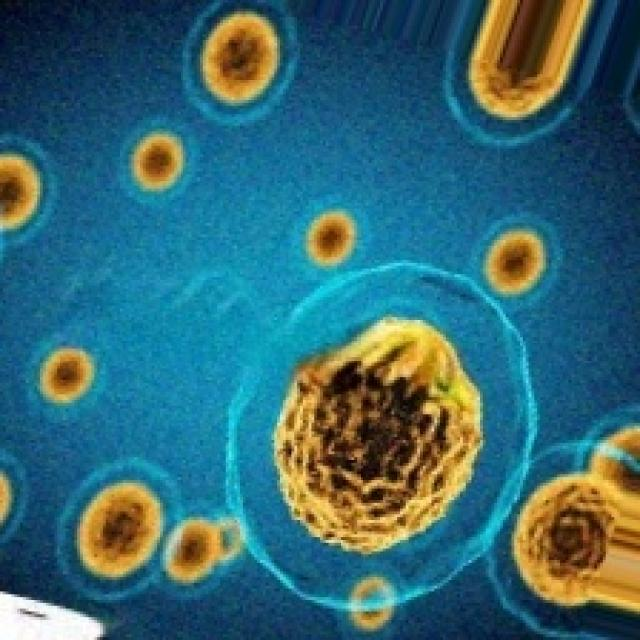Spherical_bacteria: (271, 312, 483, 554), (0, 148, 43, 232)
